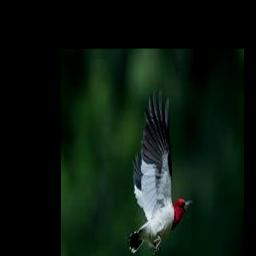Woodpecker: (126, 89, 192, 254)
